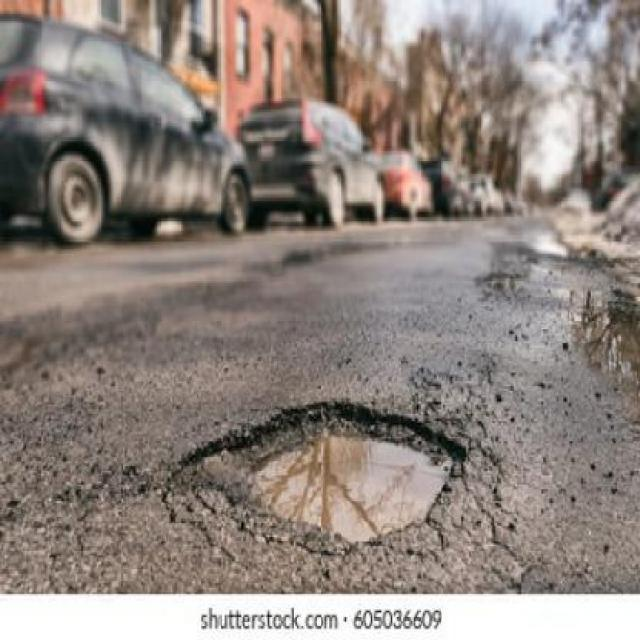Buraco: (165, 397, 478, 552)
